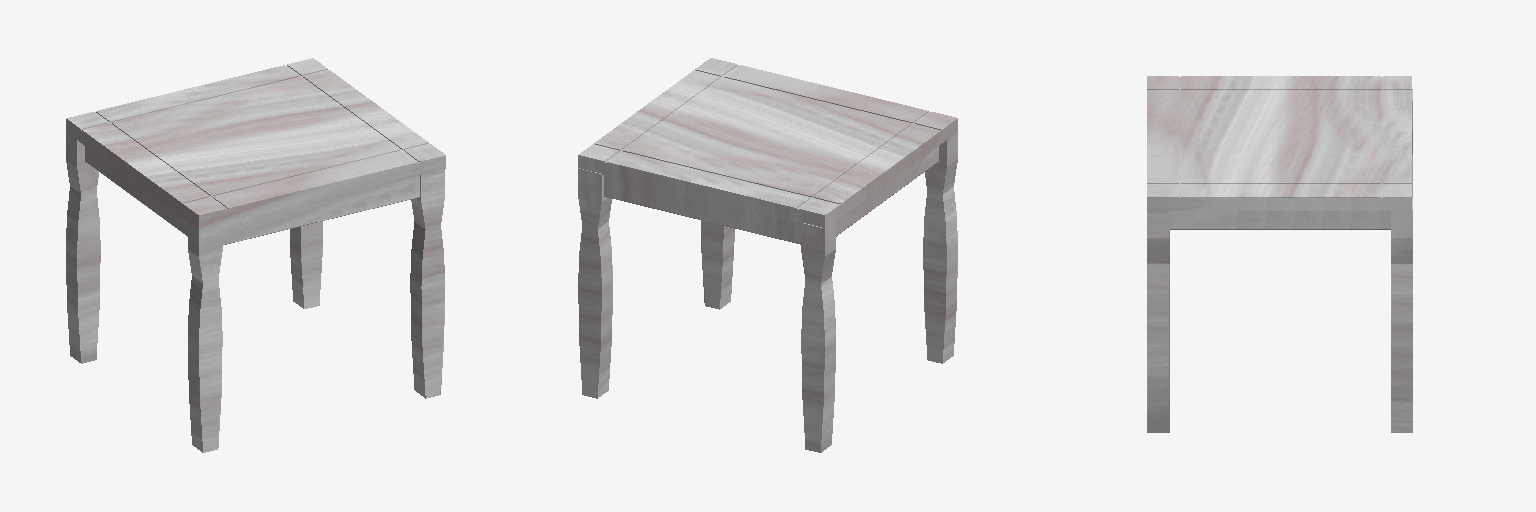
3 renders of one model, left to right at view 1: azimuth 30°, elevation 25°; view 2: azimuth 150°, elevation 25°; view 3: azimuth 270°, elevation 25°, orthographic.
Bounding box in the file's own units: 52.25 × 48.21 × 48.74.
1 materials, 1 textured.